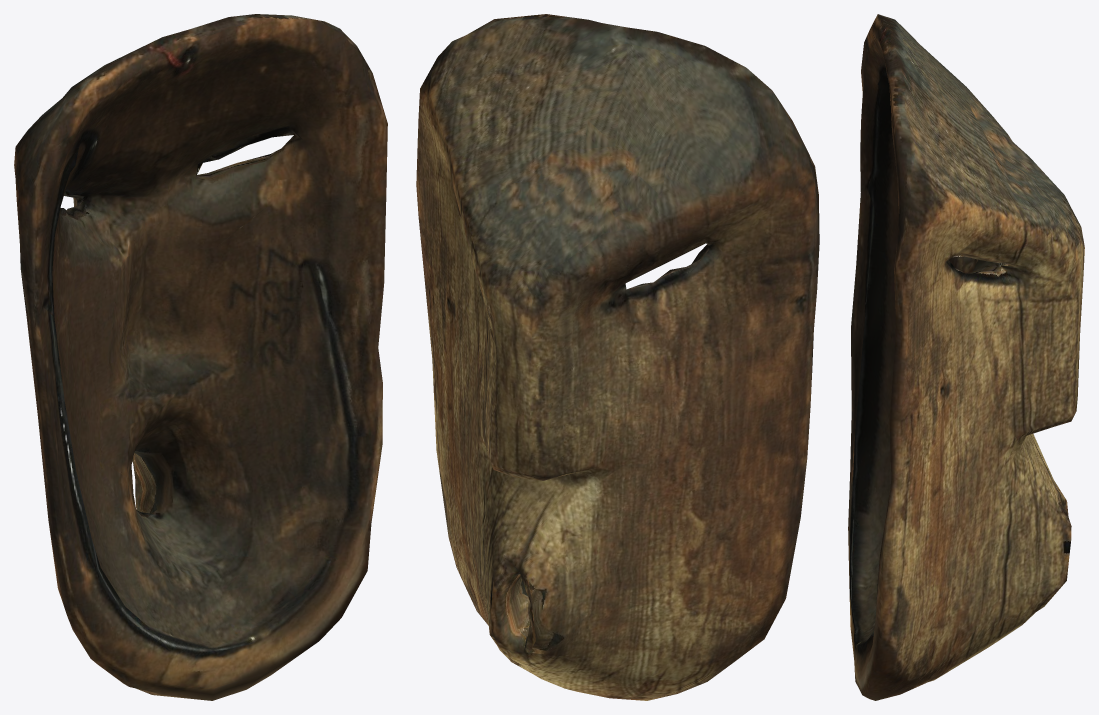
Rendered from Inuit_glb.glb.
The picture shows the model from 3 angles, left to right: view 1: azimuth 30°, elevation 25°; view 2: azimuth 150°, elevation 25°; view 3: azimuth 270°, elevation 25°; orthographic projection. The views are drawn at different scales.
Visible parts, largest first — view 1: inuit.basicdecimate_Scene.001; view 2: inuit.basicdecimate_Scene.001; view 3: inuit.basicdecimate_Scene.001.
Boxes of the visible parts, x1,y1,x2,y2 form: inuit.basicdecimate_Scene.001: [14, 14, 387, 700]; inuit.basicdecimate_Scene.001: [416, 14, 819, 700]; inuit.basicdecimate_Scene.001: [848, 14, 1084, 700].
Bounding box in the file's own units: 0.5961 × 1 × 0.3405.
Materials: 1 (1 with a texture image).
